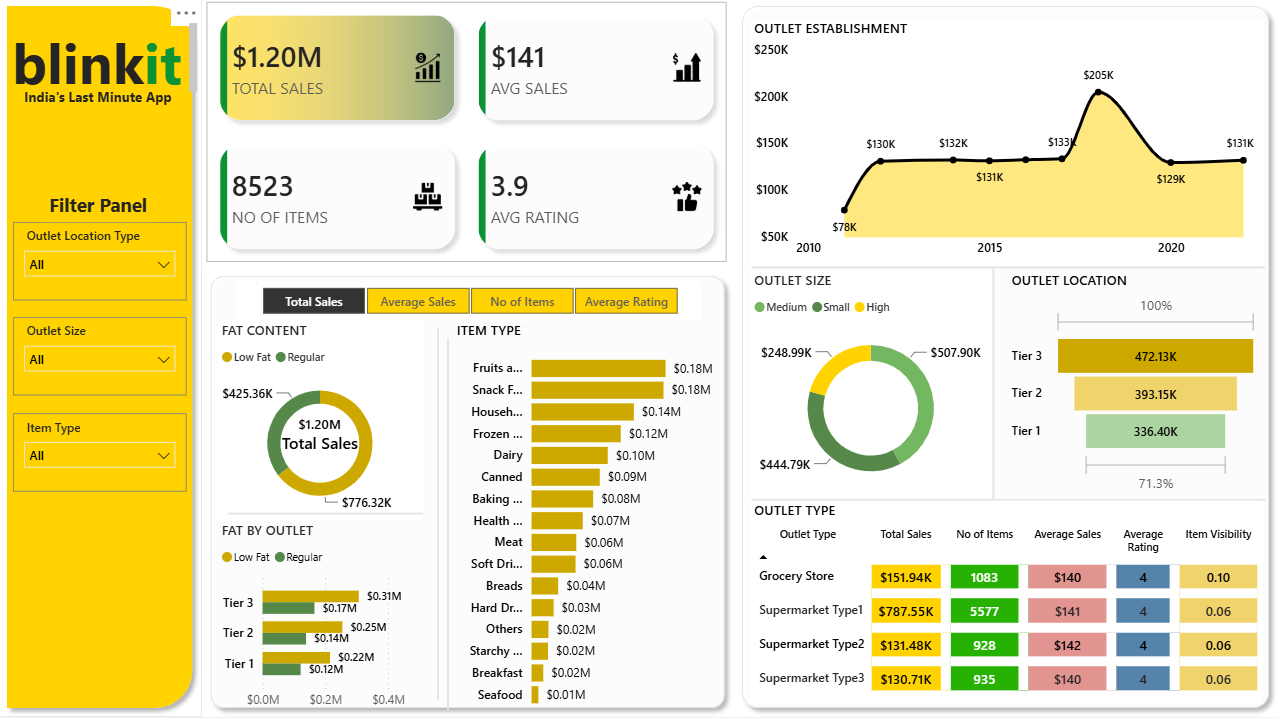

Layout of this report page (visuals, bound fields, positions):
{"tool":"powerbi","page":{"name":"Page 1","canvas":[1280,720],"ordinal":0},"visuals":[{"type":"shape","box":[0,0,203.3,720],"z":0},{"type":"textbox","box":[8.3,21.7,195,81.7],"z":1000},{"type":"textbox","box":[21.7,86.7,160,31.7],"z":2000},{"type":"cardVisual","fields":{"Data":["BlinkIT Grocery Data.Total Sales","BlinkIT Grocery Data.Average Sales","BlinkIT Grocery Data.No of Items","BlinkIT Grocery Data.Average Rating"]},"box":[203.3,0,531.7,270],"z":3000},{"type":"shape","box":[203.3,270,531.7,450],"z":4000},{"type":"donutChart","title":"FAT CONTENT","fields":{"Y":["BlinkIT Grocery Data.Total Sales"],"Category":["BlinkIT Grocery Data.Item Fat Content"]},"box":[218.3,323.3,206.7,200],"z":5000},{"type":"slicer","fields":{"Values":["Metrics.Metrics"]},"box":[238.3,283.3,465,40],"z":6000},{"type":"cardVisual","fields":{"Data":["BlinkIT Grocery Data.Total Sales"]},"box":[253.3,398.3,136.7,76.7],"z":7000},{"type":"clusteredBarChart","title":"FAT BY OUTLET","fields":{"Y":["BlinkIT Grocery Data.Total Sales"],"Category":["BlinkIT Grocery Data.Outlet Location Type"],"Series":["BlinkIT Grocery Data.Item Fat Content"]},"box":[218.3,523.3,206.7,196.7],"z":8000},{"type":"shape","box":[230,510,195,13.3],"z":9000},{"type":"shape","box":[425,331.7,30,371.7],"z":10000},{"type":"barChart","title":"ITEM TYPE","fields":{"Y":["BlinkIT Grocery Data.Total Sales"],"Category":["BlinkIT Grocery Data.Item Type"]},"box":[453.3,323.3,266.7,396.7],"z":11000},{"type":"shape","box":[735,0,545,720],"z":12000},{"type":"lineChart","title":"OUTLET ESTABLISHMENT","fields":{"Category":["BlinkIT Grocery Data.Outlet Establishment Year"],"Y":["BlinkIT Grocery Data.Total Sales"]},"box":[751.7,21.7,513.3,248.3],"z":13000},{"type":"shape","box":[753.3,263.3,513.3,13.3],"z":14000},{"type":"donutChart","title":"OUTLET SIZE","fields":{"Y":["BlinkIT Grocery Data.Total Sales"],"Category":["BlinkIT Grocery Data.Outlet Size"]},"box":[751.7,273.3,243.3,230],"z":15000},{"type":"funnel","title":"OUTLET LOCATION","fields":{"Y":["Sum(BlinkIT Grocery Data.Sales)"],"Category":["BlinkIT Grocery Data.Outlet Location Type"]},"box":[1008.3,273.3,256.7,228.3],"z":16000},{"type":"shape","box":[435,341.7,30,371.7],"z":17000},{"type":"shape","box":[981.7,270,28.3,231.7],"z":18000},{"type":"shape","box":[753.3,496.7,513.3,13.3],"z":19000},{"type":"pivotTable","title":"OUTLET TYPE","fields":{"Rows":["BlinkIT Grocery Data.Outlet Type"],"Values":["BlinkIT Grocery Data.Total Sales","BlinkIT Grocery Data.No of Items","BlinkIT Grocery Data.Average Sales","BlinkIT Grocery Data.Average Rating","Avg(BlinkIT Grocery Data.Item Visibility)"]},"box":[751.7,503.3,513.3,203.3],"z":20000},{"type":"slicer","fields":{"Values":["BlinkIT Grocery Data.Outlet Location Type"]},"box":[15,225,173.3,78.3],"z":21000},{"type":"slicer","fields":{"Values":["BlinkIT Grocery Data.Outlet Size"]},"box":[15,320,173.3,78.3],"z":22000},{"type":"slicer","fields":{"Values":["BlinkIT Grocery Data.Item Type"]},"box":[15,416.7,173.3,78.3],"z":23000},{"type":"textbox","box":[46.7,190,108.3,35],"z":24000}]}

Visuals, with their boxes in screenshot pixels (x1, y1, x2, y2), scaled from the page's 1280x720 canvas onto the 1278x718 screenshot:
shape: select_region(0, 0, 203, 717)
textbox: select_region(8, 22, 203, 103)
textbox: select_region(22, 86, 181, 118)
cardVisual - BlinkIT Grocery Data.Total Sales x BlinkIT Grocery Data.Average Sales: select_region(203, 0, 734, 269)
shape: select_region(203, 269, 734, 717)
"FAT CONTENT" donutChart: select_region(218, 322, 424, 522)
slicer - Metrics.Metrics: select_region(238, 283, 702, 322)
cardVisual - BlinkIT Grocery Data.Total Sales: select_region(253, 397, 389, 474)
"FAT BY OUTLET" clusteredBarChart: select_region(218, 522, 424, 717)
shape: select_region(230, 509, 424, 522)
shape: select_region(424, 331, 454, 701)
"ITEM TYPE" barChart: select_region(453, 322, 719, 717)
shape: select_region(734, 0, 1277, 717)
"OUTLET ESTABLISHMENT" lineChart: select_region(751, 22, 1263, 269)
shape: select_region(752, 263, 1265, 276)
"OUTLET SIZE" donutChart: select_region(751, 273, 993, 502)
"OUTLET LOCATION" funnel: select_region(1007, 273, 1263, 500)
shape: select_region(434, 341, 464, 711)
shape: select_region(980, 269, 1008, 500)
shape: select_region(752, 495, 1265, 509)
"OUTLET TYPE" pivotTable: select_region(751, 502, 1263, 705)
slicer - BlinkIT Grocery Data.Outlet Location Type: select_region(15, 224, 188, 302)
slicer - BlinkIT Grocery Data.Outlet Size: select_region(15, 319, 188, 397)
slicer - BlinkIT Grocery Data.Item Type: select_region(15, 416, 188, 494)
textbox: select_region(47, 189, 155, 224)
